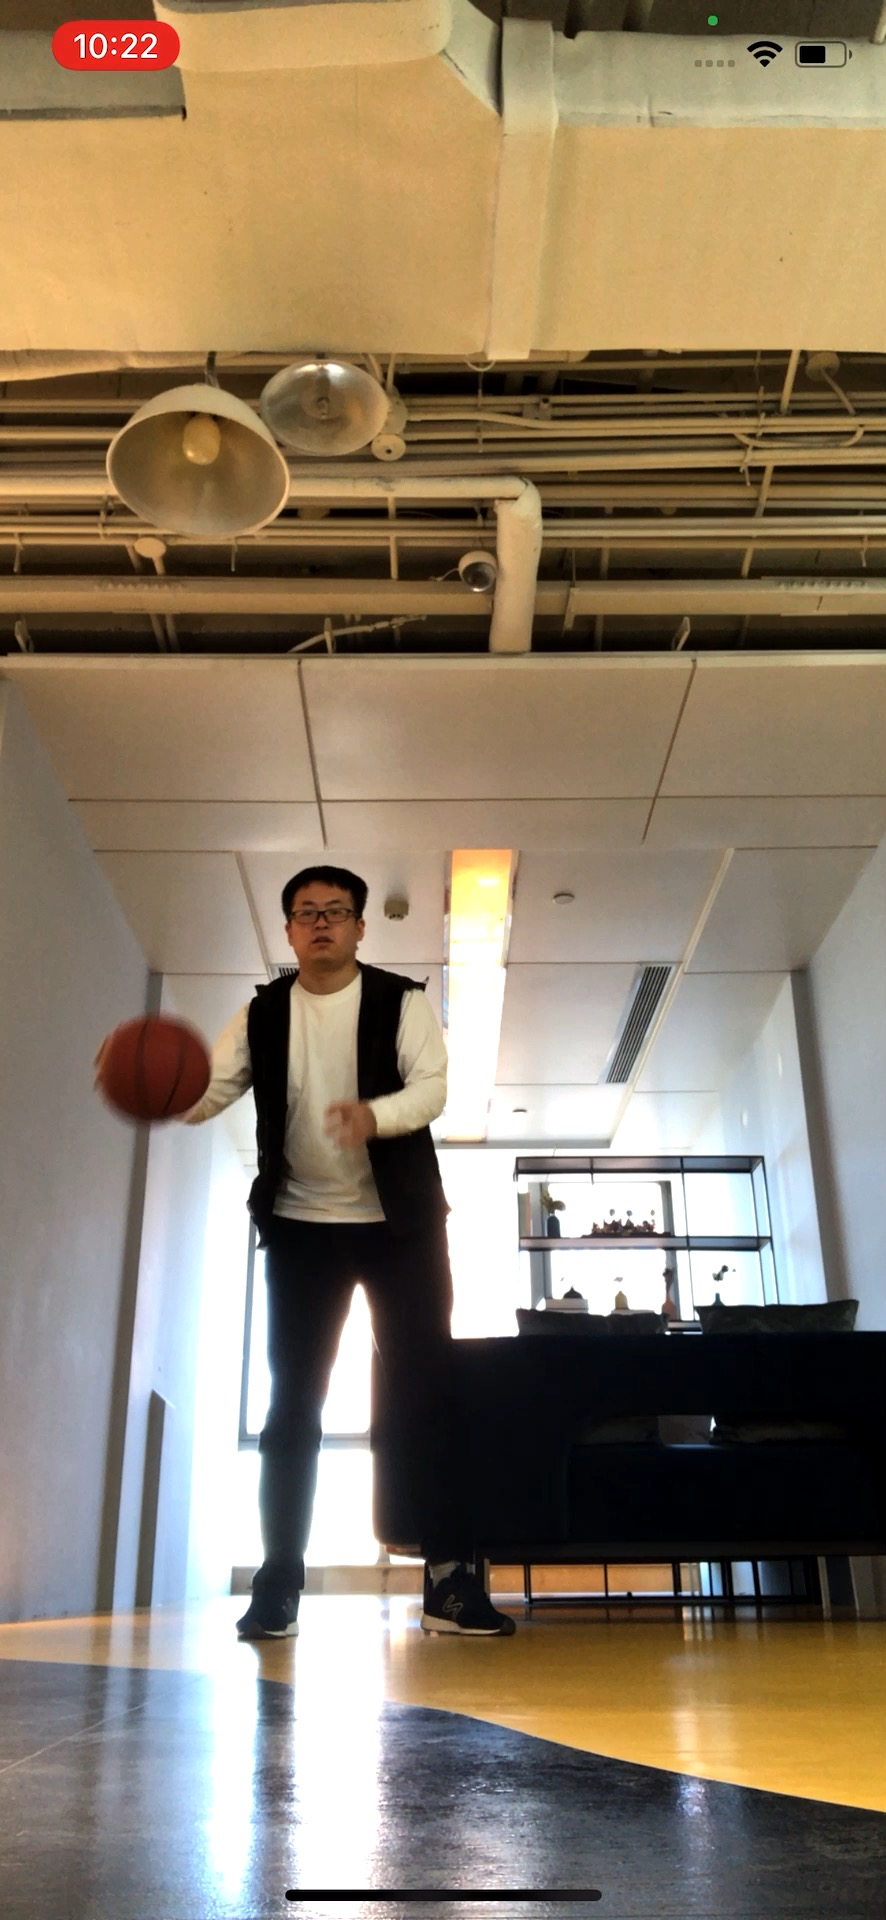ball: (95, 1014, 210, 1125)
